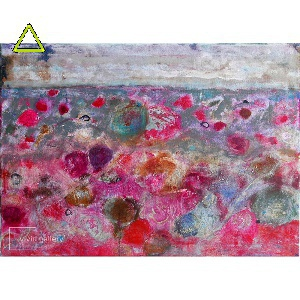triangle: (11, 22, 46, 53)
